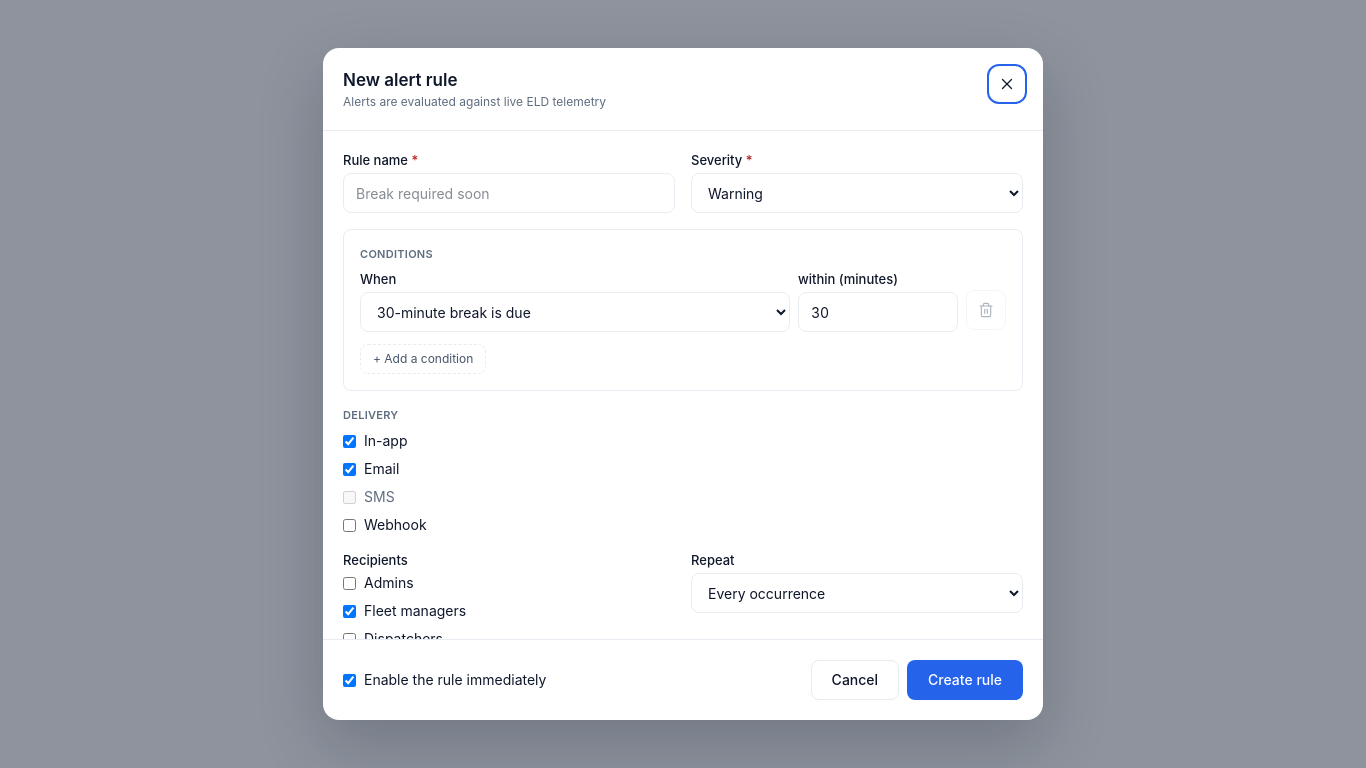
NewAlertRuleModal — payload honesty › refuses a zero-minute threshold and sends nothing
The width and height of the screenshot is (1366, 768).
Step 1. Type "Zero minutes" into the field with placeholder "Break required soon" → (509, 193), box [343,173,675,213]
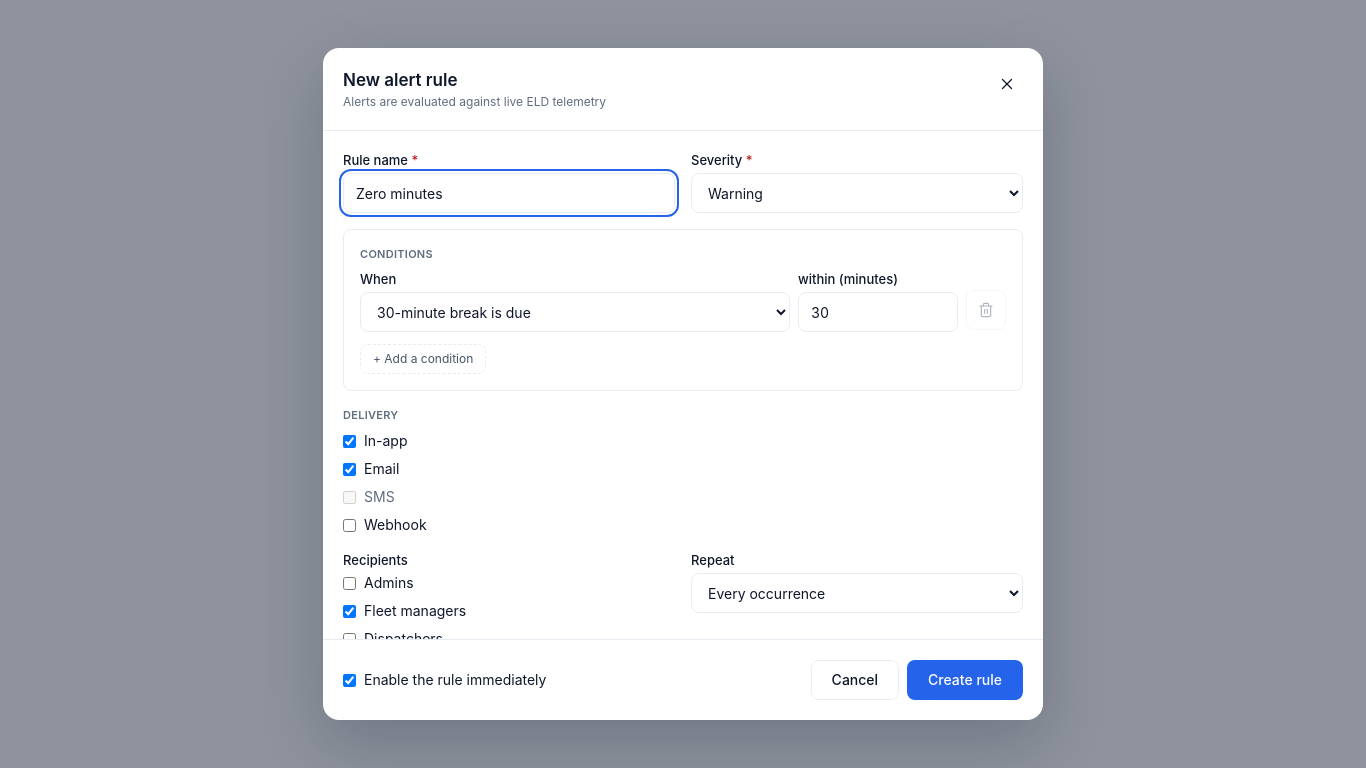
Step 2. Clear the field named "Condition 1 minutes" → (878, 312), box [798,292,958,332]
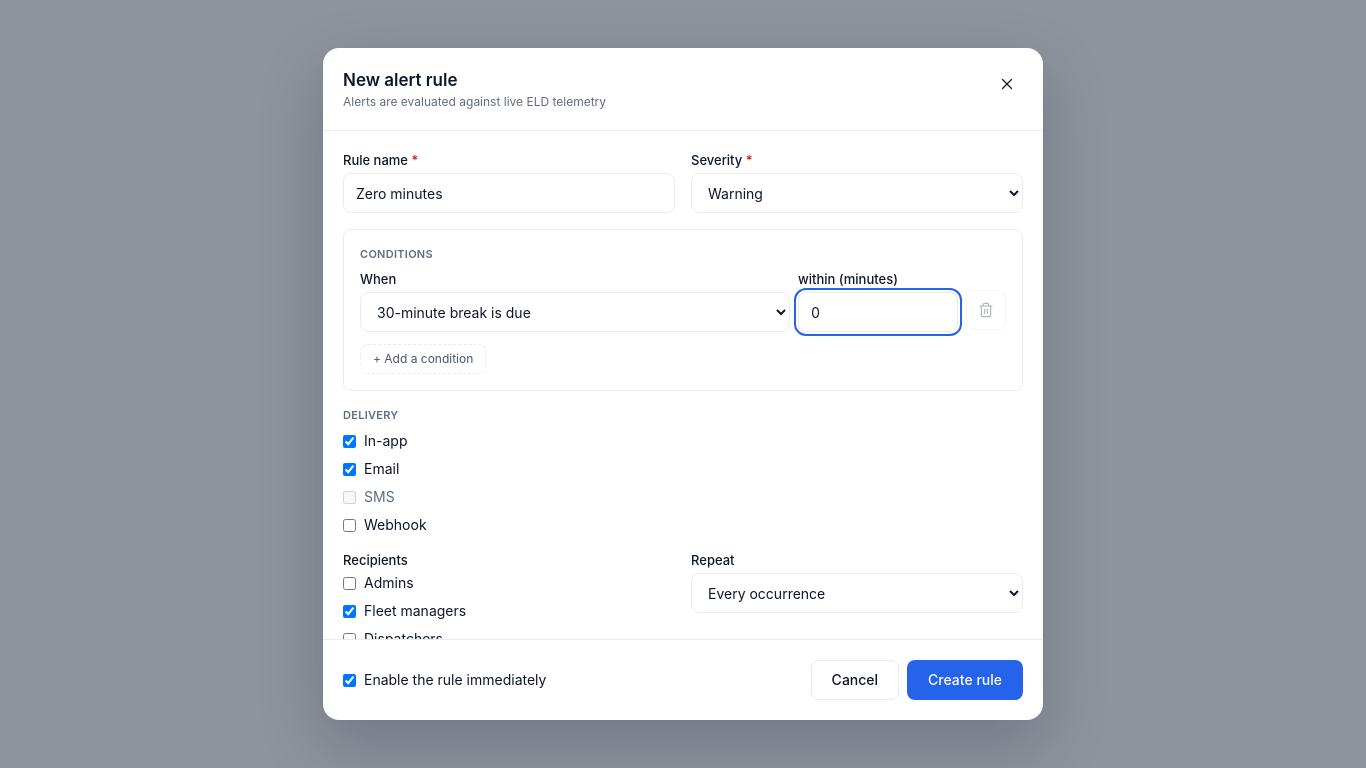
Step 3. Click the button "Create rule" → click(965, 680), box [907,660,1023,700]
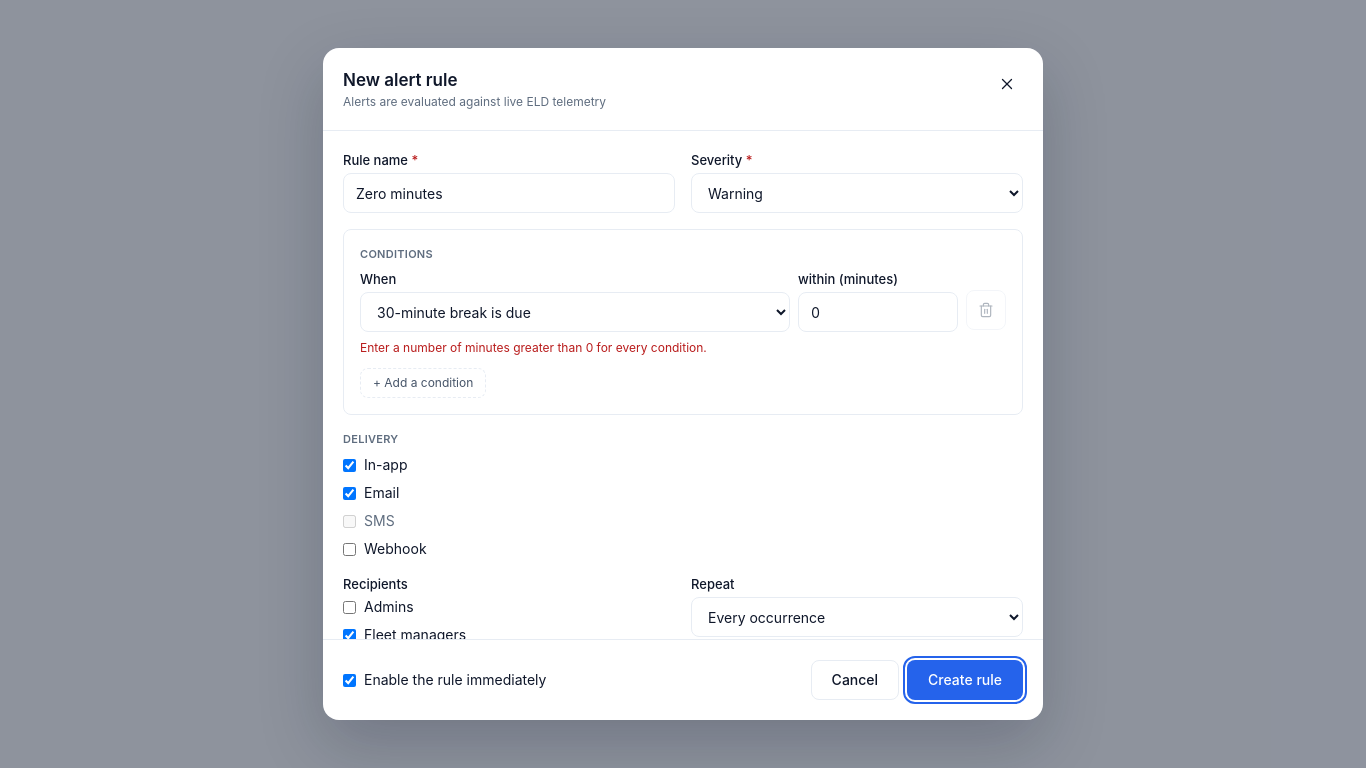
Check: the text "Enter a number of minutes greater than 0 for every condition." is shown, box [360,340,707,355]
